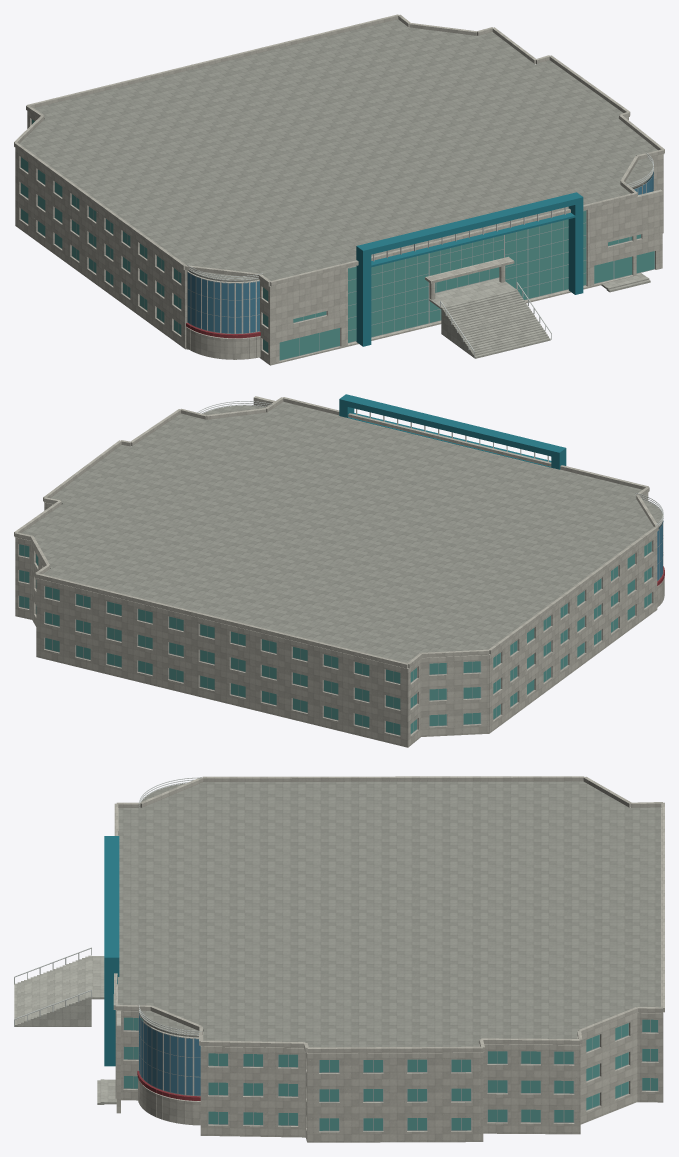
3 views of the same model, one above another, from view 1: azimuth 30°, elevation 25°; view 2: azimuth 150°, elevation 25°; view 3: azimuth 270°, elevation 25° (orthographic). The views are drawn at different scales.
Visible parts, largest first — view 1: osm136179047__roof, osm136179047__stone, osm136179047__glass, osm136179047__portal, osm136179047__stair-main, osm136179047__frame, osm136179047__glass-blue, osm136179047__threshold-main, osm136179047__steel; view 2: osm136179047__roof, osm136179047__stone, osm136179047__glass, osm136179047__portal, osm136179047__frame, osm136179047__steel; view 3: osm136179047__roof, osm136179047__stone, osm136179047__glass, osm136179047__stair-main, osm136179047__frame, osm136179047__glass-blue, osm136179047__portal, osm136179047__steel, osm136179047__threshold-main.
Boxes of the visible parts, bbox=[...] form: osm136179047__roof: bbox=[19, 19, 657, 281]; osm136179047__stone: bbox=[14, 14, 664, 365]; osm136179047__glass: bbox=[21, 119, 654, 360]; osm136179047__portal: bbox=[356, 192, 583, 346]; osm136179047__stair-main: bbox=[441, 289, 550, 358]; osm136179047__frame: bbox=[20, 119, 654, 360]; osm136179047__glass-blue: bbox=[187, 171, 653, 333]; osm136179047__threshold-main: bbox=[429, 278, 515, 308]; osm136179047__steel: bbox=[187, 153, 653, 358]; osm136179047__roof: bbox=[21, 401, 662, 663]; osm136179047__stone: bbox=[14, 396, 664, 747]; osm136179047__glass: bbox=[19, 541, 651, 734]; osm136179047__portal: bbox=[339, 394, 566, 469]; osm136179047__frame: bbox=[19, 521, 663, 735]; osm136179047__steel: bbox=[197, 401, 663, 526]; osm136179047__roof: bbox=[118, 781, 660, 1047]; osm136179047__stone: bbox=[113, 776, 664, 1142]; osm136179047__glass: bbox=[124, 1017, 657, 1130]; osm136179047__stair-main: bbox=[14, 955, 91, 1026]; osm136179047__frame: bbox=[123, 1016, 658, 1131]; osm136179047__glass-blue: bbox=[139, 1013, 200, 1095]; osm136179047__portal: bbox=[104, 836, 119, 1066]; osm136179047__steel: bbox=[14, 777, 201, 1035]; osm136179047__threshold-main: bbox=[91, 956, 104, 999].
Size of the model in its own units: 72.19 by 13.8 by 72.82.
Materials: 12 (6 with a texture image).
